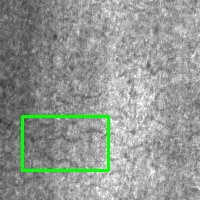crazing: (22, 116, 108, 170)
